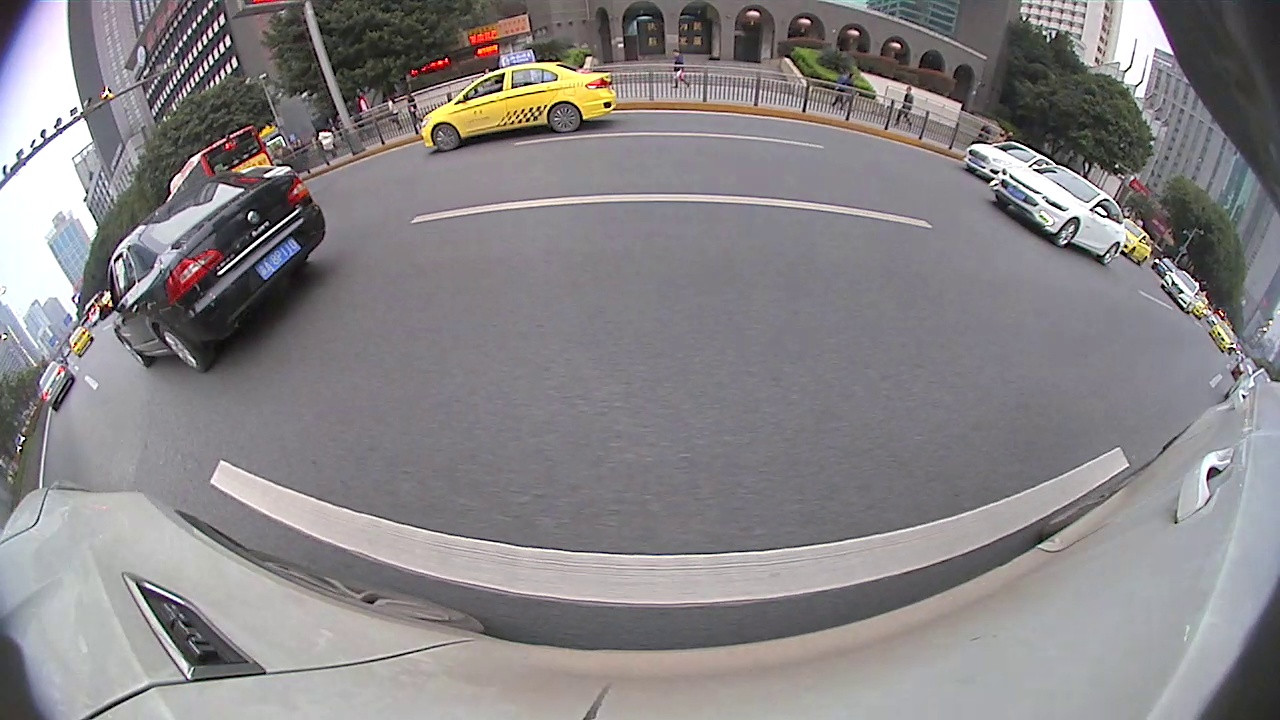bus: (24, 286, 101, 337), (767, 143, 827, 183), (691, 153, 716, 174), (660, 154, 683, 172)
car: (1, 296, 192, 470), (516, 127, 652, 233), (701, 141, 818, 211), (417, 155, 519, 224), (112, 250, 219, 302), (220, 213, 302, 261)
front: (73, 354, 157, 452), (827, 231, 861, 280), (700, 174, 711, 197)
rear: (946, 279, 1005, 351), (720, 176, 741, 204), (485, 185, 499, 214)
rider: (829, 87, 1094, 356)
